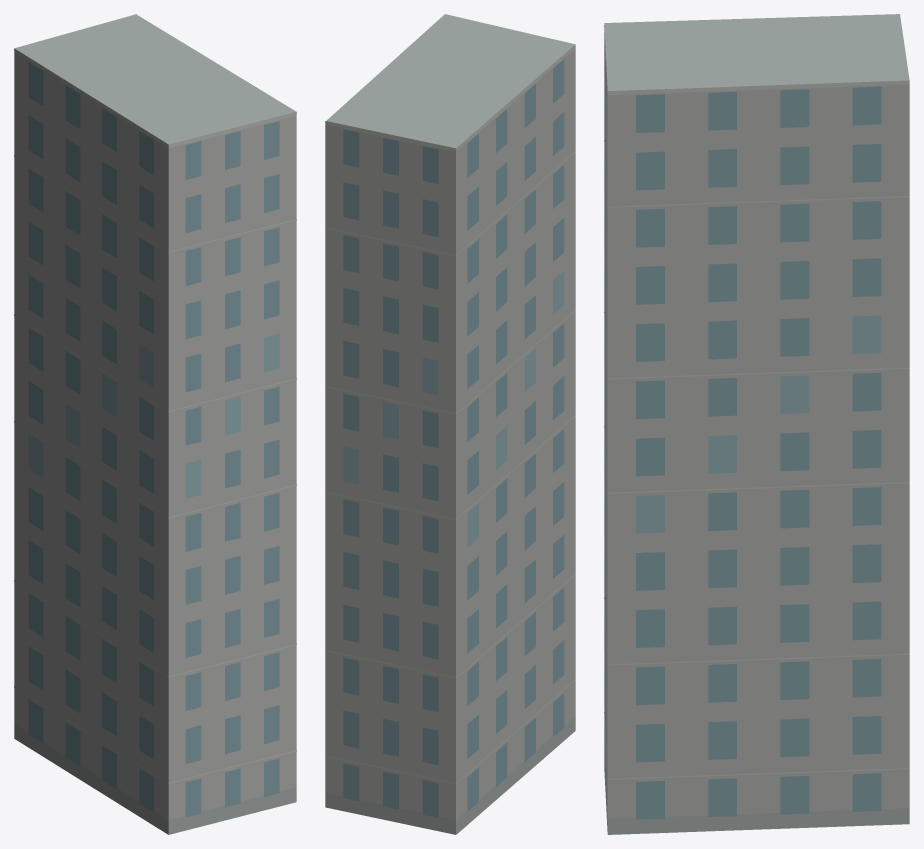
The model's file is survey-upis-32745730.glb.
3 views of the same model, side by side, from view 1: azimuth 30°, elevation 25°; view 2: azimuth 150°, elevation 25°; view 3: azimuth 270°, elevation 25° (orthographic). The views are drawn at different scales.
Parts seen in each view (by area): view 1: survey-upis-32745730.tmp; view 2: survey-upis-32745730.tmp; view 3: survey-upis-32745730.tmp.
Boxes of the visible parts, bbox=[...] form: survey-upis-32745730.tmp: bbox=[14, 14, 296, 834]; survey-upis-32745730.tmp: bbox=[325, 14, 575, 834]; survey-upis-32745730.tmp: bbox=[604, 14, 909, 834].
Size of the model in its own units: 9.6 by 43 by 16.02.
